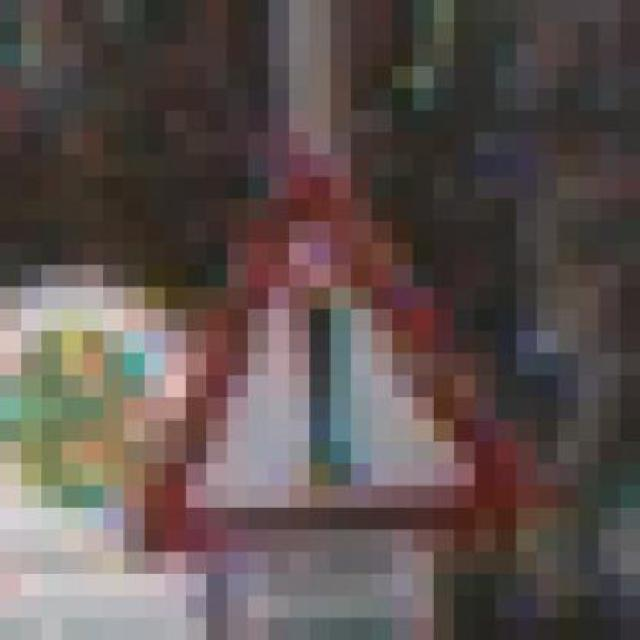Attention Please-: (82, 111, 578, 574)
